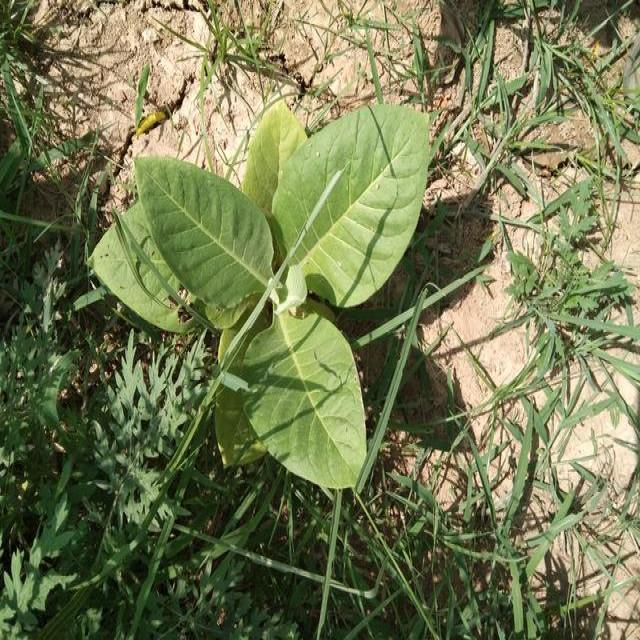crop: (125, 102, 425, 498)
